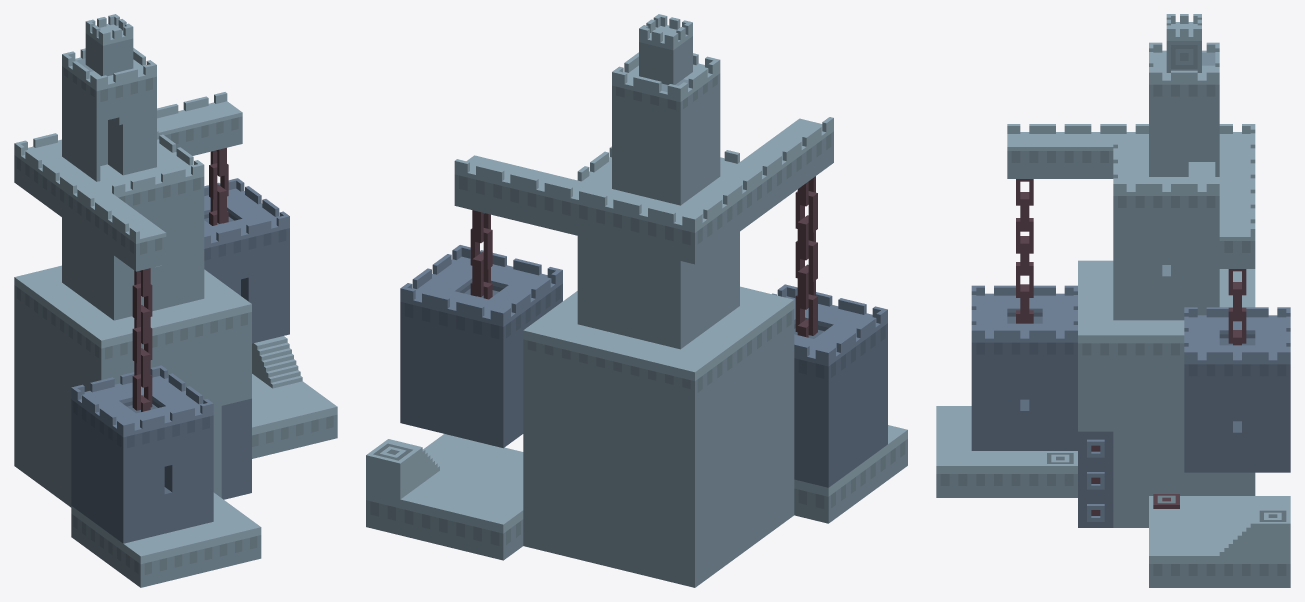
The model's file is monu1.obj.
3 views of the same model, side by side, from view 1: azimuth 30°, elevation 25°; view 2: azimuth 150°, elevation 25°; view 3: azimuth 270°, elevation 25° (orthographic). The views are drawn at different scales.
Bounding box in the file's own units: 8 × 11.5 × 8.
Materials: 1 (1 with a texture image).
